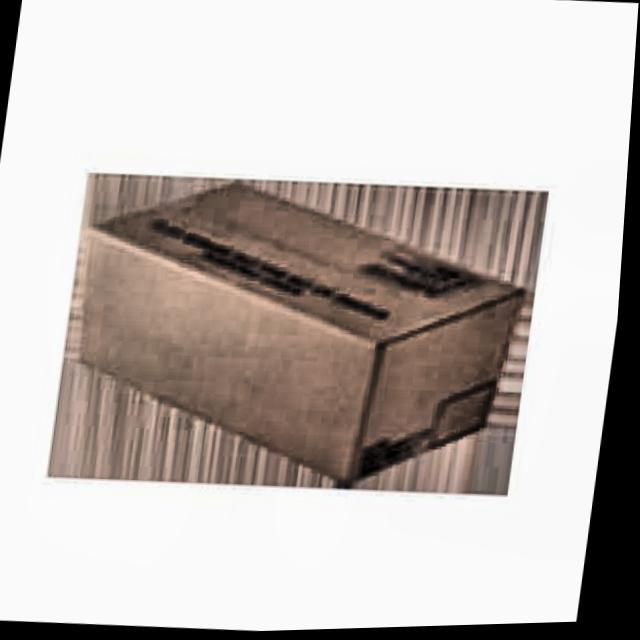Cardbox: (60, 159, 546, 508)
